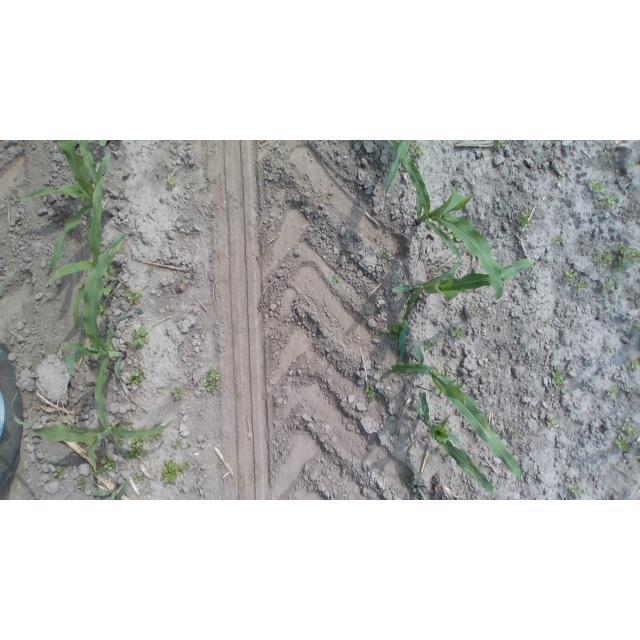Maize: (386, 140, 504, 304), (392, 343, 520, 481), (59, 233, 132, 436), (392, 259, 533, 364), (17, 141, 115, 278), (11, 391, 172, 473), (46, 177, 122, 330), (416, 388, 495, 494), (385, 140, 409, 197), (397, 472, 427, 500), (92, 477, 128, 500), (99, 140, 107, 146)
Weeds: (593, 243, 640, 273), (614, 422, 640, 452), (159, 459, 189, 484), (203, 366, 220, 395), (125, 439, 147, 461), (97, 450, 117, 474), (519, 208, 534, 233), (132, 326, 149, 347), (364, 383, 380, 404), (599, 192, 618, 208), (127, 368, 143, 386), (588, 180, 607, 195), (126, 290, 143, 306), (549, 370, 565, 387), (569, 483, 587, 498), (53, 463, 68, 480), (409, 141, 424, 157), (565, 268, 580, 283), (601, 281, 616, 296), (605, 386, 620, 400), (386, 323, 399, 339), (574, 279, 588, 293), (424, 338, 440, 350), (627, 357, 640, 371), (172, 387, 185, 400), (546, 414, 559, 427), (452, 327, 467, 338), (166, 174, 176, 190), (76, 477, 87, 491), (624, 183, 635, 197), (329, 273, 340, 285), (113, 438, 125, 449), (599, 150, 613, 159), (133, 472, 143, 484), (554, 235, 564, 246), (434, 361, 443, 371), (626, 160, 635, 170), (605, 345, 616, 353), (598, 303, 606, 314), (383, 250, 390, 262), (494, 141, 506, 148), (100, 303, 108, 313), (160, 160, 168, 169), (148, 436, 160, 442), (511, 432, 519, 441), (555, 174, 564, 182), (446, 231, 454, 239), (172, 440, 180, 448), (610, 274, 618, 282), (545, 148, 552, 156), (147, 265, 154, 273), (635, 321, 640, 332), (455, 235, 462, 242), (374, 333, 381, 340), (566, 367, 574, 373), (469, 304, 477, 310), (547, 319, 554, 325), (178, 278, 182, 283), (45, 448, 48, 453)
